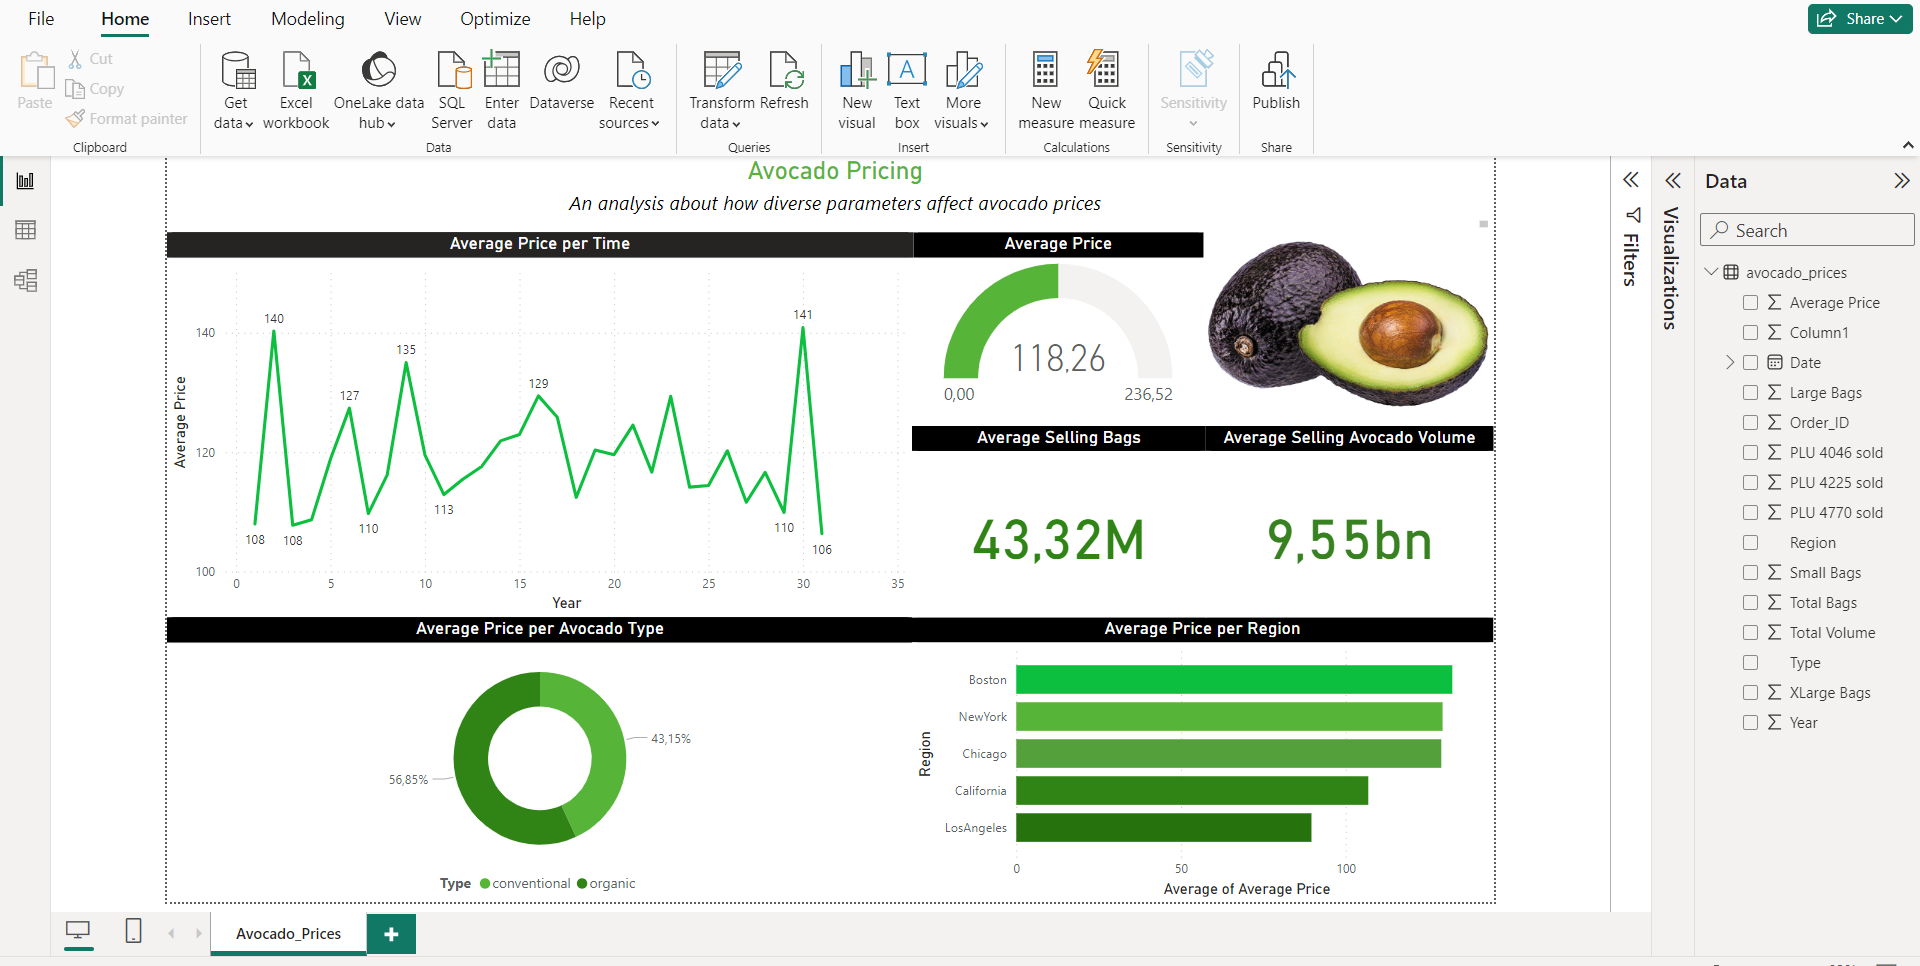

Layout of this report page (visuals, bound fields, positions):
{"tool":"powerbi","page":{"name":"Avocado_Prices","canvas":[1280,720],"ordinal":2},"visuals":[{"type":"image","box":[1000,73.8,280,176.2],"z":0},{"type":"gauge","title":"Average Price","fields":{"Y":["Avg(avocado_prices.Average Price)"]},"box":[720,73.8,280,176.2],"z":1000},{"type":"textbox","title":"Avocado Pricing","box":[10,0,1270,73.8],"z":2000},{"type":"donutChart","title":"Average Price per Avocado Type","fields":{"Series":["avocado_prices.Type"],"Y":["Avg(avocado_prices.Average Price)"]},"box":[0,445,720,275],"z":3000},{"type":"lineChart","title":"Average Price per Time","fields":{"Y":["Avg(avocado_prices.Average Price)"],"Category":["avocado_prices.Date.Παραλλαγή.Ιεραρχία ημερομηνιών.Έτος","avocado_prices.Date.Παραλλαγή.Ιεραρχία ημερομηνιών.Μήνας","avocado_prices.Date.Παραλλαγή.Ιεραρχία ημερομηνιών.Ημέρα"]},"box":[0,73.8,720,370],"z":4000},{"type":"clusteredBarChart","title":"Average Price per Region","fields":{"Category":["avocado_prices.Region"],"Y":["Avg(avocado_prices.Average Price)"]},"box":[718.8,445,560.8,275],"z":5000},{"type":"card","title":"Average Selling Bags","fields":{"Values":["Avg(avocado_prices.Total Bags)"]},"box":[718.8,260,283.8,185],"z":6000},{"type":"card","title":"Average Selling Avocado Volume ","fields":{"Values":["Avg(avocado_prices.Total Volume)"]},"box":[1002.5,260,277.5,185],"z":7000}]}

Visuals, with their boxes on the page's 1280x720 design canvas (x1, y1, x2, y2). These are canvas units, not pixel positions in the 1920x966 screenshot, which may show the page scaled, cropped or inside an application window:
image: box(1000, 74, 1280, 250)
"Average Price" gauge: box(720, 74, 1000, 250)
"Avocado Pricing" textbox: box(10, 0, 1280, 74)
"Average Price per Avocado Type" donutChart: box(0, 445, 720, 720)
"Average Price per Time" lineChart: box(0, 74, 720, 444)
"Average Price per Region" clusteredBarChart: box(719, 445, 1280, 720)
"Average Selling Bags" card: box(719, 260, 1003, 445)
"Average Selling Avocado Volume " card: box(1002, 260, 1280, 445)
